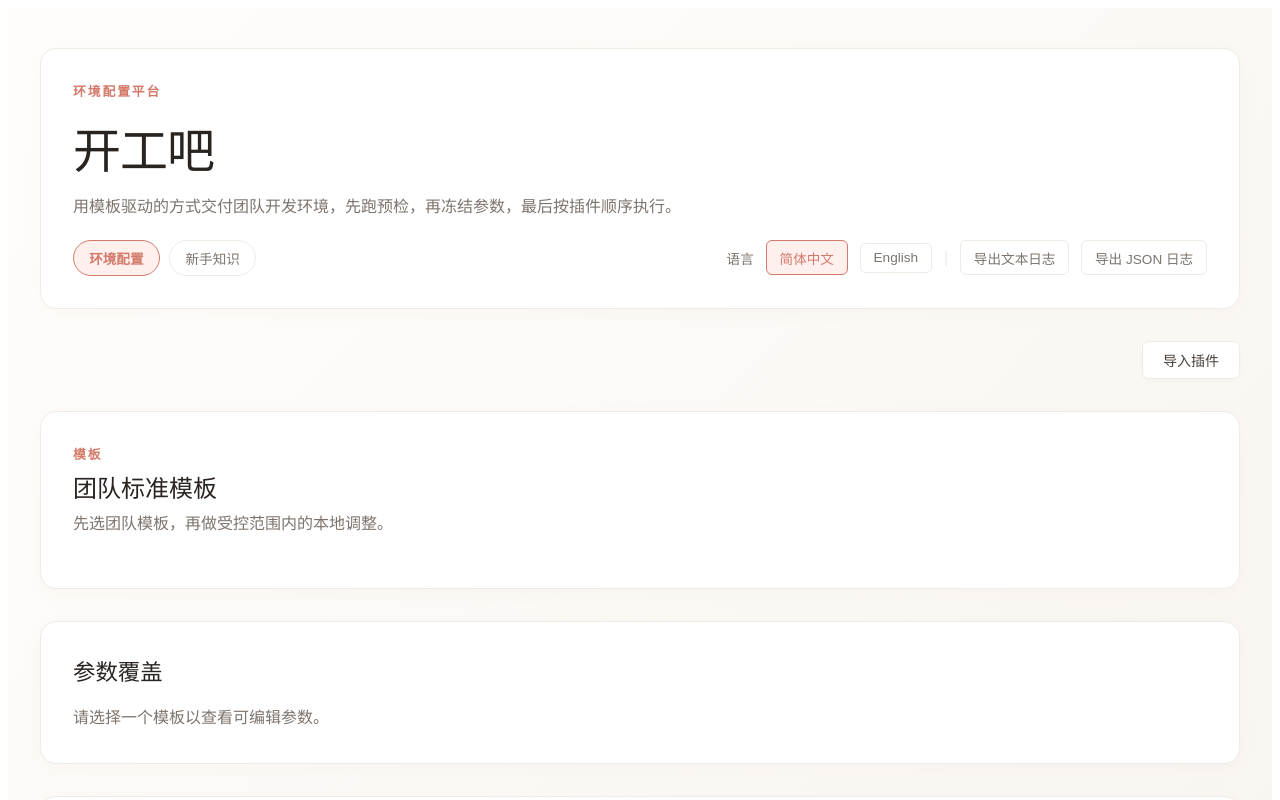
Test: App › imports plugin from selected zip and refreshes templates
Click the button "导入插件" at (1191, 360), box [1142, 341, 1240, 379]
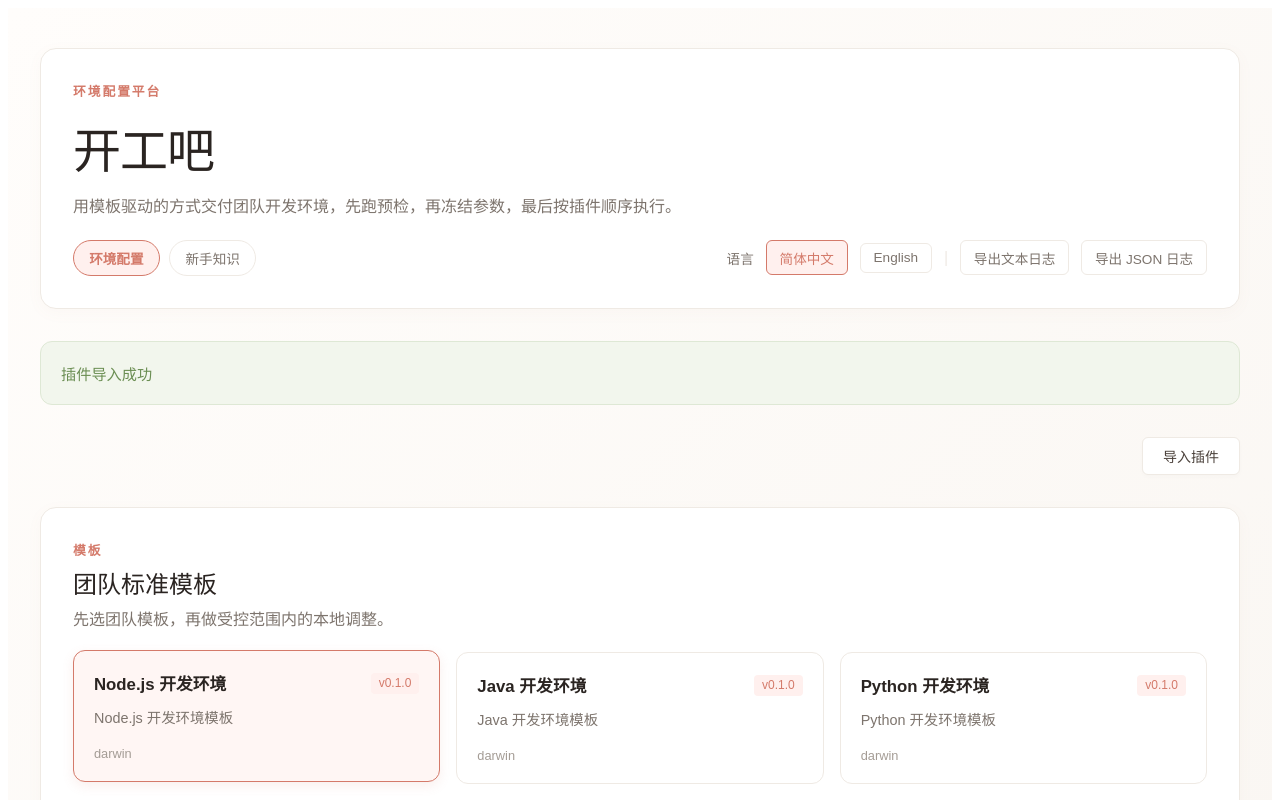
Expected: the text "插件导入成功" is shown, [40, 341, 1240, 405]
